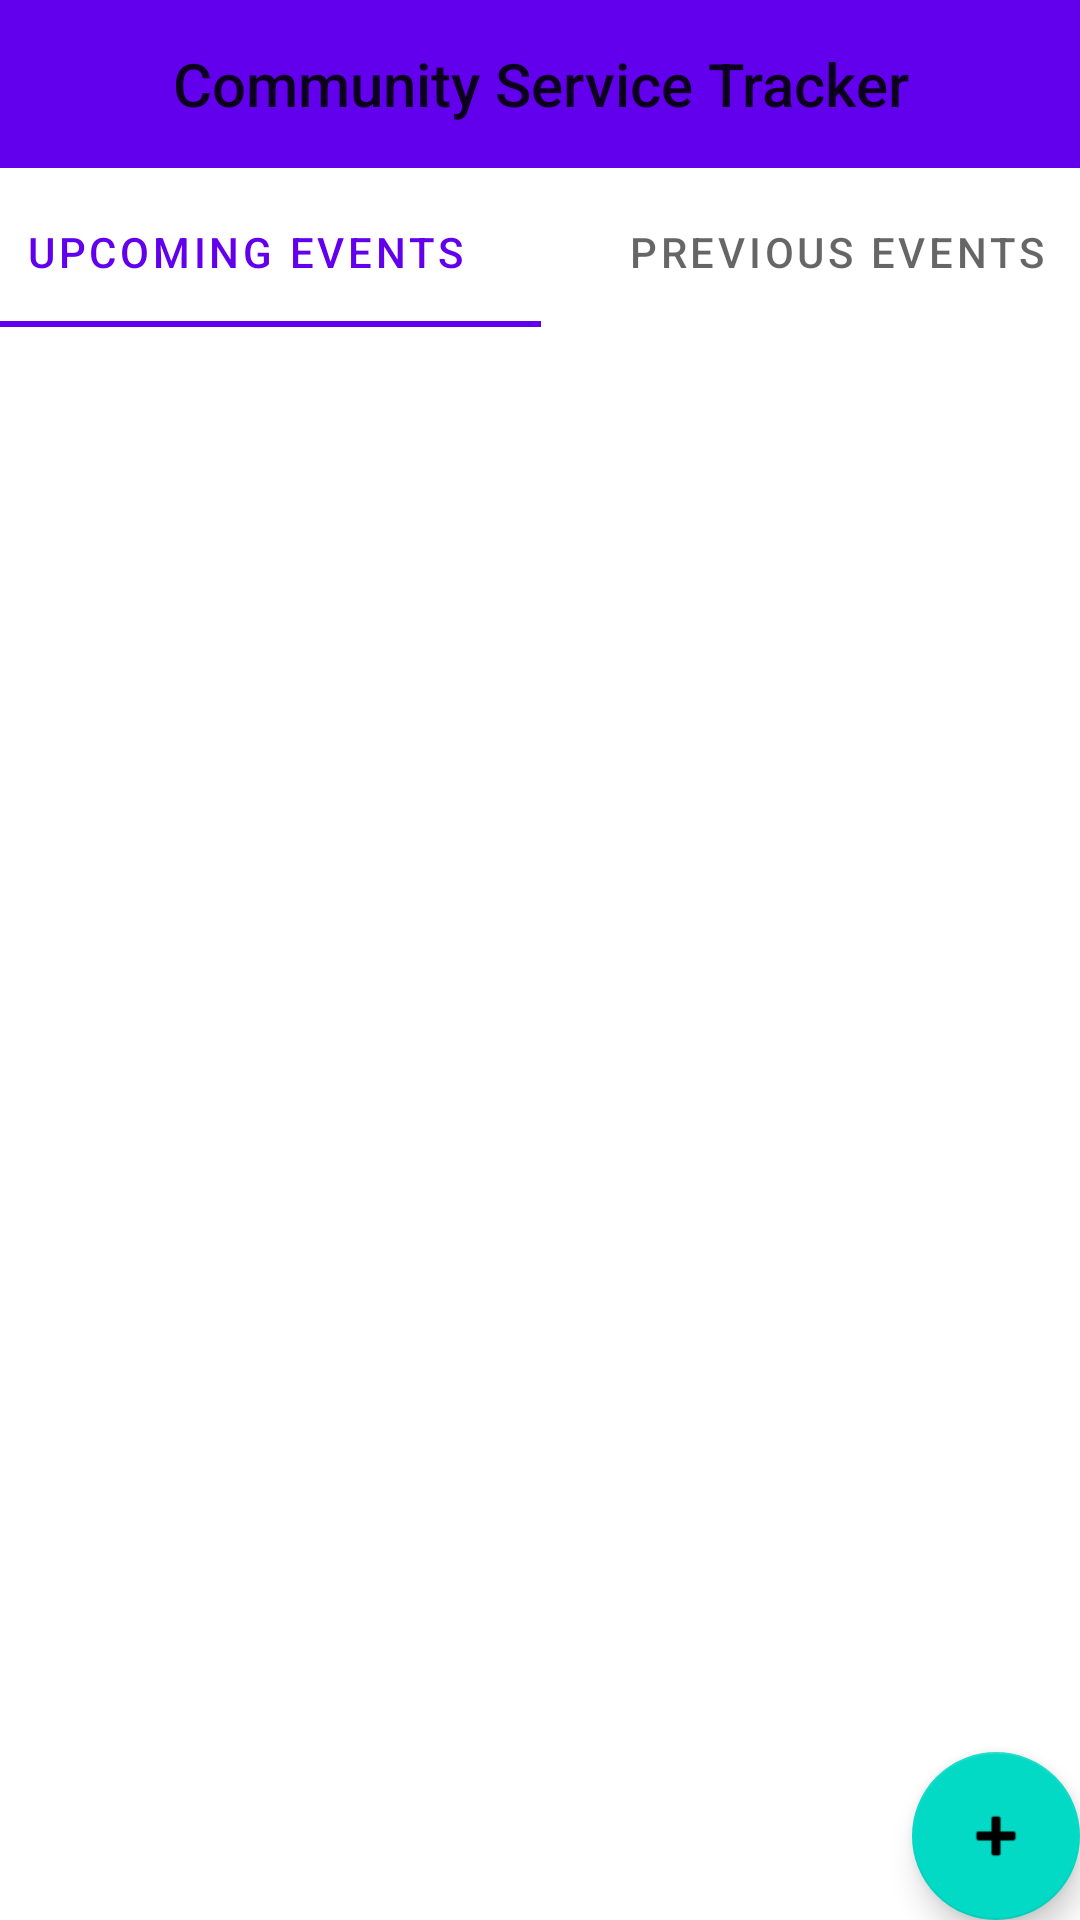

Icons on this 1080 x 1920 Android screen, each with the point to tap as (x,y):
add: (996,1836)
